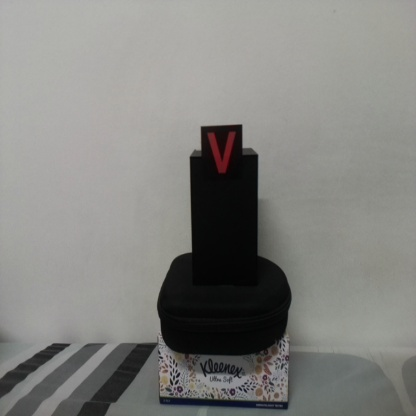id_11: (201, 129, 242, 186)
